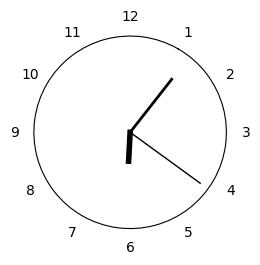12: (122, 9, 139, 23)
circle: (33, 36, 227, 229)
hours: (126, 129, 133, 164)
minutes: (132, 77, 173, 129)
seconds: (133, 134, 201, 183)
